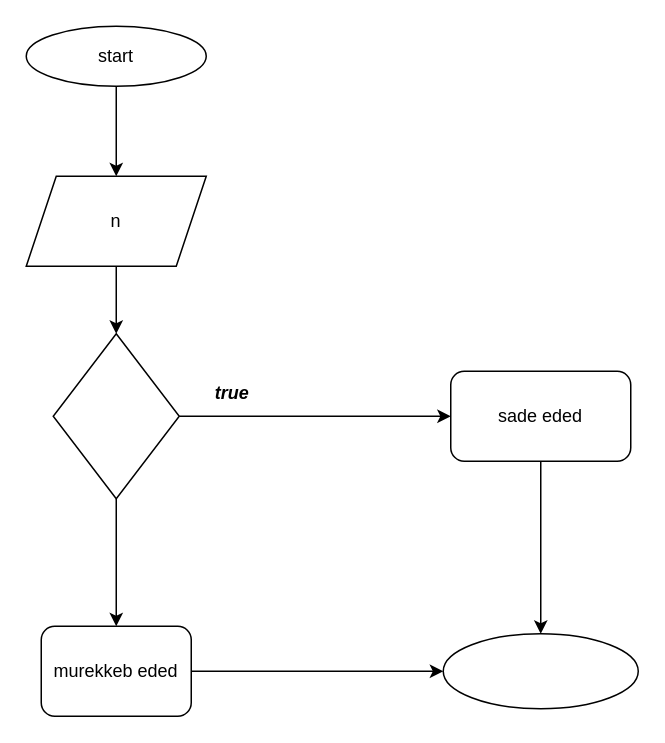
This 665x743 diagram has some shape labels left out. The shapes that lost their labels are listed below. From the top down, each one's centre as x and y in pixels, then its label:
At point (115, 415): "only n%1==0 && n%n==0".
At point (540, 670): "end".
